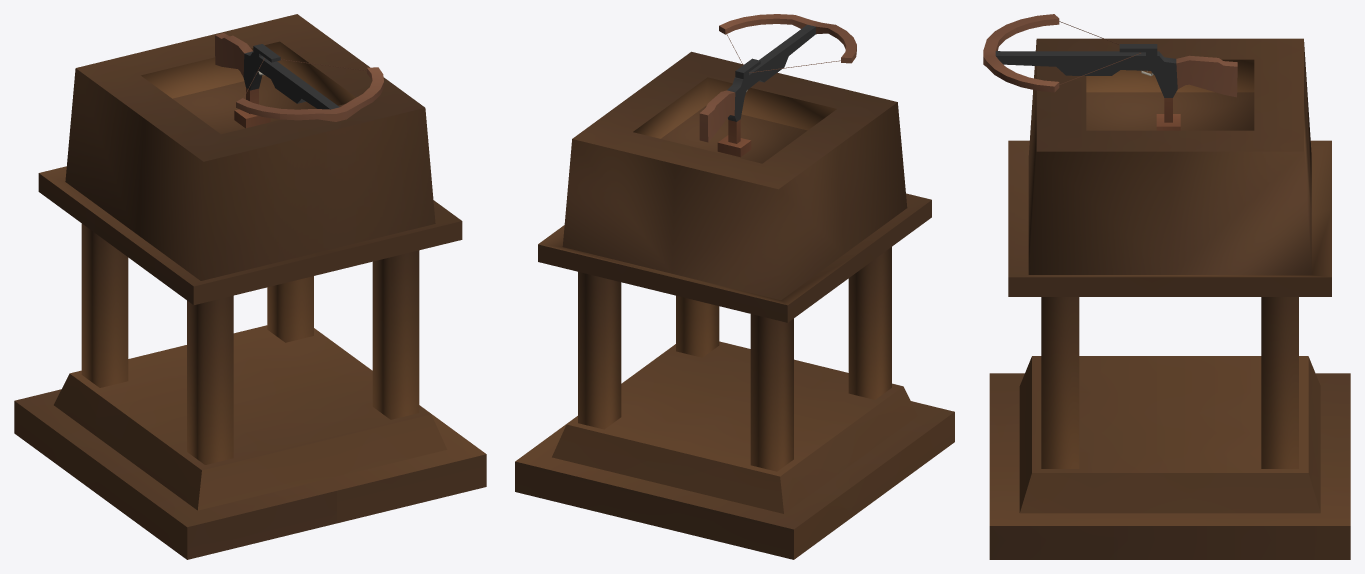
The model's file is tower_crosbow.fbx.
3 renders of one model, left to right at view 1: azimuth 30°, elevation 25°; view 2: azimuth 150°, elevation 25°; view 3: azimuth 270°, elevation 25°, orthographic. The views are drawn at different scales.
Visible parts, largest first — view 1: turret, vsn_mesh_0_crossbowone, vsn_mesh_0_crossbowone.001; view 2: turret, vsn_mesh_0_crossbowone, vsn_mesh_0_crossbowone.001; view 3: turret, vsn_mesh_0_crossbowone, vsn_mesh_0_crossbowone.001.
Boxes of the visible parts, bbox=[...] form: turret: bbox=[14, 14, 486, 559]; vsn_mesh_0_crossbowone: bbox=[215, 33, 383, 121]; vsn_mesh_0_crossbowone.001: bbox=[234, 88, 270, 128]; turret: bbox=[515, 51, 954, 559]; vsn_mesh_0_crossbowone: bbox=[699, 14, 856, 142]; vsn_mesh_0_crossbowone.001: bbox=[717, 119, 751, 157]; turret: bbox=[989, 38, 1350, 559]; vsn_mesh_0_crossbowone: bbox=[983, 14, 1237, 97]; vsn_mesh_0_crossbowone.001: bbox=[1156, 98, 1180, 130].
Size of the model in its own units: 1888 by 2527 by 1922.
